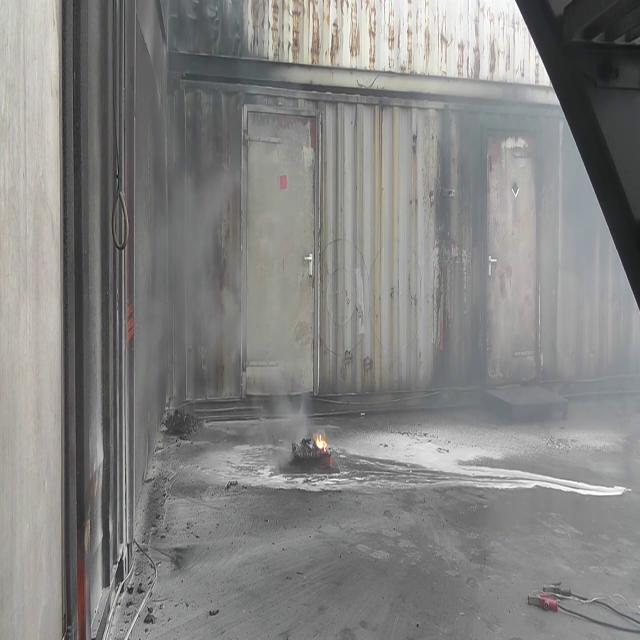Fire: (312, 426, 332, 458)
Smoke: (134, 44, 315, 446)
